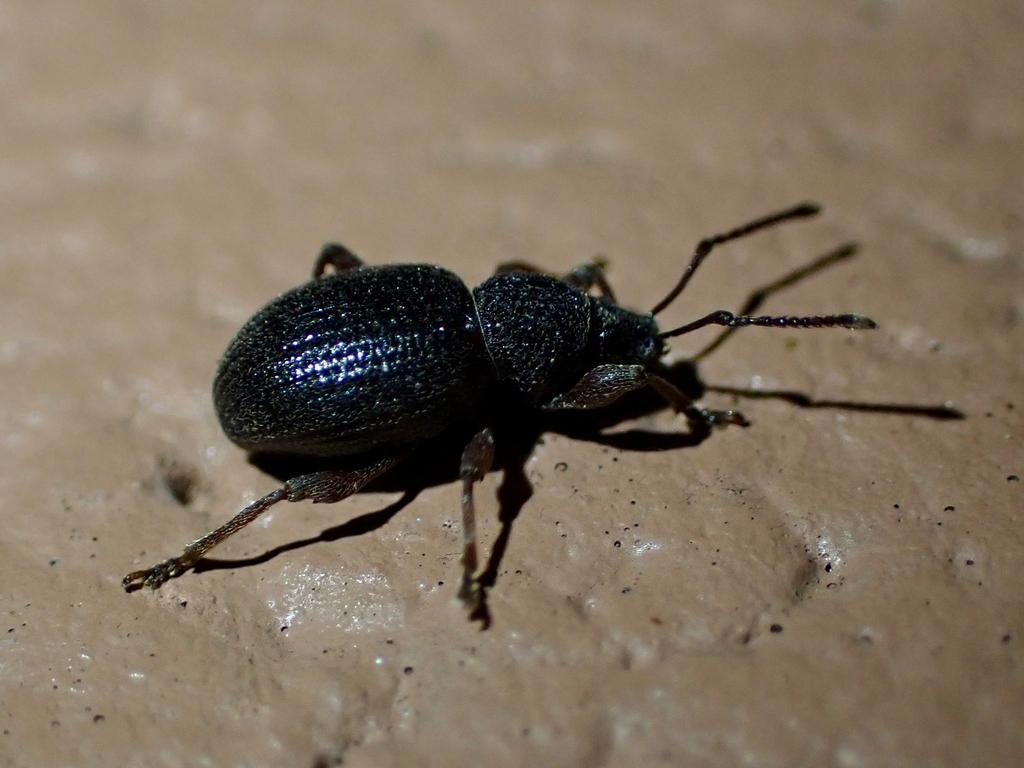weevils: (50, 150, 942, 660)
